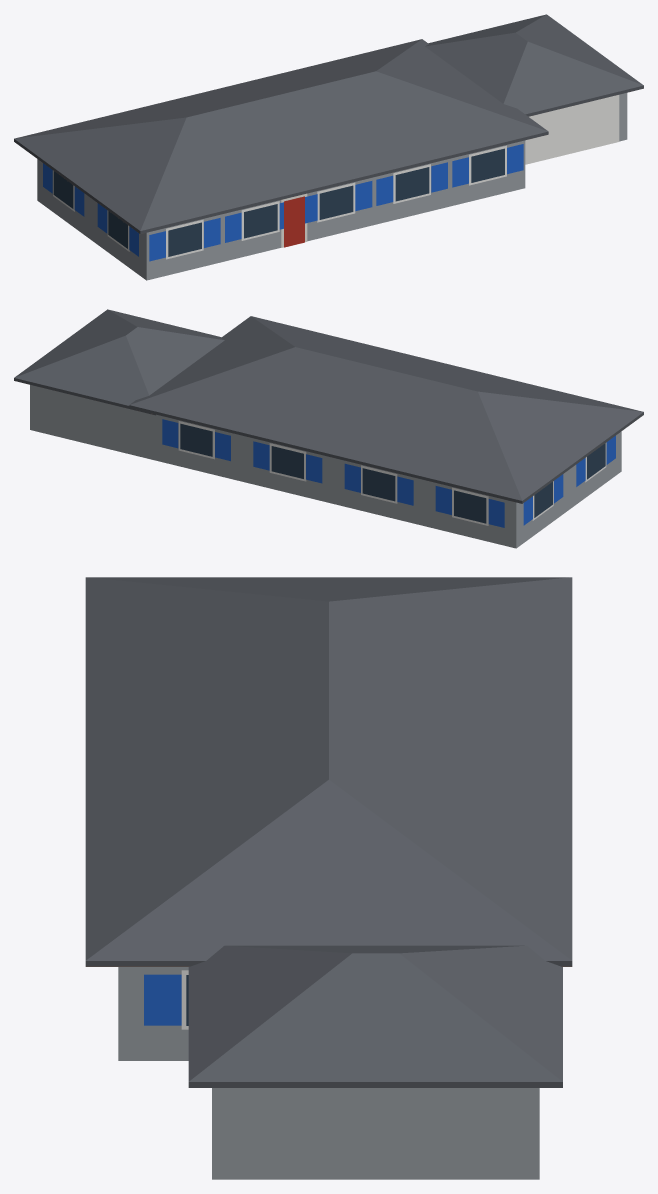
The model's file is ranch.glb.
The picture shows the model from 3 angles, top to bottom: view 1: azimuth 30°, elevation 25°; view 2: azimuth 150°, elevation 25°; view 3: azimuth 270°, elevation 25°; orthographic projection. The views are drawn at different scales.
Visible parts, largest first — view 1: ranch; view 2: ranch; view 3: ranch.
Part boxes in pixels (box(x1,y1,x2,y2)): ranch: box(14, 14, 643, 280); ranch: box(14, 309, 643, 548); ranch: box(85, 577, 572, 1179).
Size of the model in its own units: 25.2 by 4.54 by 10.4.
1 material, 1 textured.
